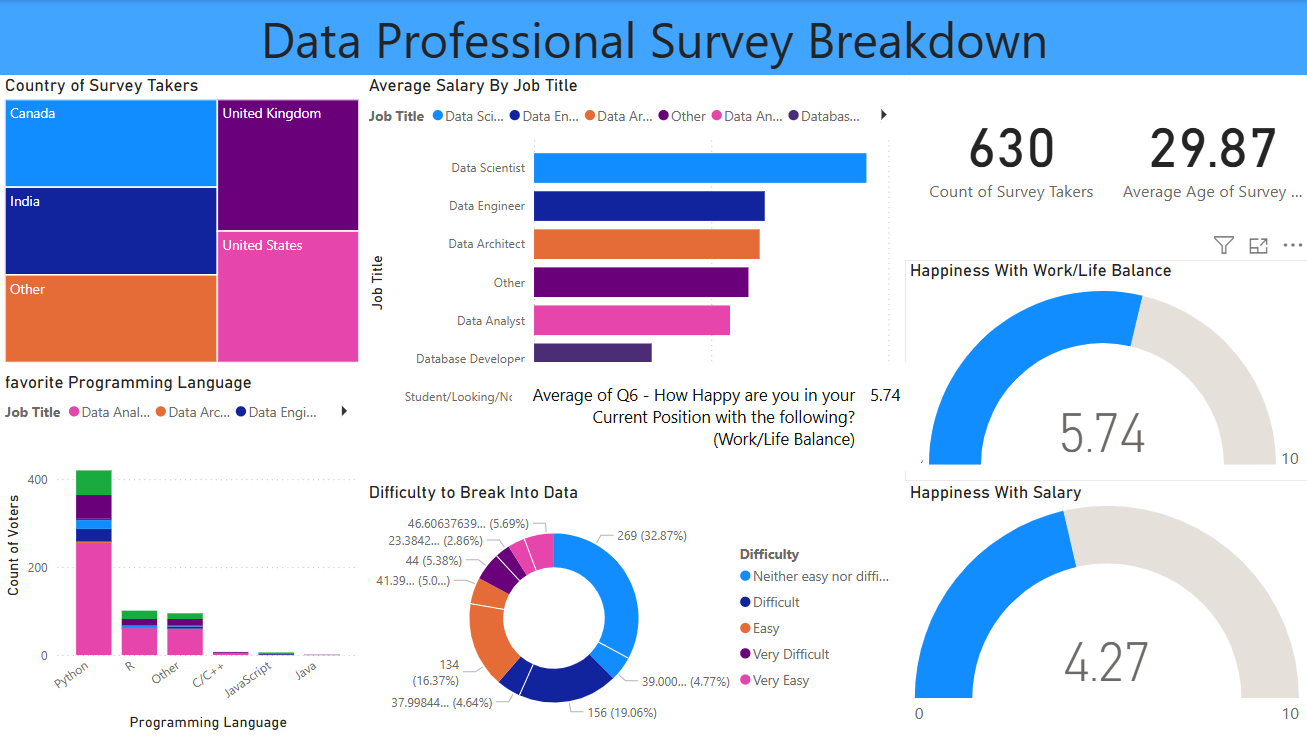

What the dashboard file says about the page in this screenshot:
{"tool":"powerbi","page":{"name":"Page 1","canvas":[1280,720],"ordinal":0},"visuals":[{"type":"textbox","box":[0,0,1280.3,74],"z":0},{"type":"card","fields":{"Values":["Count(Data Professional Survey.Unique ID)"]},"box":[884.9,74,208.4,149.3],"z":1000},{"type":"card","fields":{"Values":["Avg(Data Professional Survey.Q10 - Current Age)"]},"box":[1093.3,74,186.9,149.3],"z":2000},{"type":"barChart","title":"Average Salary By Job Title","fields":{"Category":["Data Professional Survey.Q1 - Which Title Best Fits your Current Role?.1"],"Y":["Avg(Data Professional Survey.Average Salary)"],"Series":["Data Professional Survey.Q1 - Which Title Best Fits your Current Role?.1"]},"box":[356.4,74,528.5,387.3],"z":3000},{"type":"columnChart","title":"favorite Programming Language","fields":{"Category":["Data Professional Survey.Q5 - Favorite Programming Language.1"],"Y":["CountNonNull(Data Professional Survey.Unique ID)"],"Series":["Data Professional Survey.Q1 - Which Title Best Fits your Current Role?.1"]},"box":[0,363.1,356.4,356.4],"z":4000},{"type":"treemap","title":"Country of Survey Takers","fields":{"Group":["Data Professional Survey.Q11 - Which Country do you live in?.1"],"Values":["Count(Data Professional Survey.Q11 - Which Country do you live in?.1)"]},"box":[0,74,356.4,286.4],"z":4001},{"type":"gauge","title":"Happiness With Salary","fields":{"Y":["Avg(Data Professional Survey.Q6 - How Happy are you in your Current Position with the following? (Salary))"],"MinValue":["Min(Data Professional Survey.Q6 - How Happy are you in your Current Position with the following? (Salary))"],"MaxValue":["Max(Data Professional Survey.Q6 - How Happy are you in your Current Position with the following? (Salary))"]},"box":[884.9,470.7,395.4,248.8],"z":4003},{"type":"gauge","title":"Happiness With Work/Life Balance","fields":{"Y":["Avg(Data Professional Survey.Q6 - How Happy are you in your Current Position with the following? (Work/Life Balance))"],"MinValue":["Min(Data Professional Survey.Q6 - How Happy are you in your Current Position with the following? (Work/Life Balance))1"],"MaxValue":["Max(Data Professional Survey.Q6 - How Happy are you in your Current Position with the following? (Work/Life Balance))2"]},"box":[884.9,254.2,395.4,216.5],"z":4004},{"type":"donutChart","title":"Difficulty to Break Into Data","fields":{"Category":["Data Professional Survey.Q7 - How difficult was it for you to break into Data?"],"Y":["CountNonNull(Data Professional Survey.Q7 - How difficult was it for you to break into Data?)","Sum(Data Professional Survey.Average Salary)"]},"box":[356.4,470.7,528.5,248.8],"z":4005}]}

Visuals, with their boxes in screenshot pixels (x1, y1, x2, y2), scaled from the page's 1280x720 canvas onto the 1307x736 screenshot:
textbox: crop(0, 0, 1306, 76)
card - Count(Data Professional Survey.Unique ID): crop(904, 76, 1116, 228)
card - Avg(Data Professional Survey.Q10 - Current Age): crop(1116, 76, 1306, 228)
"Average Salary By Job Title" barChart: crop(364, 76, 904, 472)
"favorite Programming Language" columnChart: crop(0, 371, 364, 735)
"Country of Survey Takers" treemap: crop(0, 76, 364, 368)
"Happiness With Salary" gauge: crop(904, 481, 1306, 735)
"Happiness With Work/Life Balance" gauge: crop(904, 260, 1306, 481)
"Difficulty to Break Into Data" donutChart: crop(364, 481, 904, 735)
